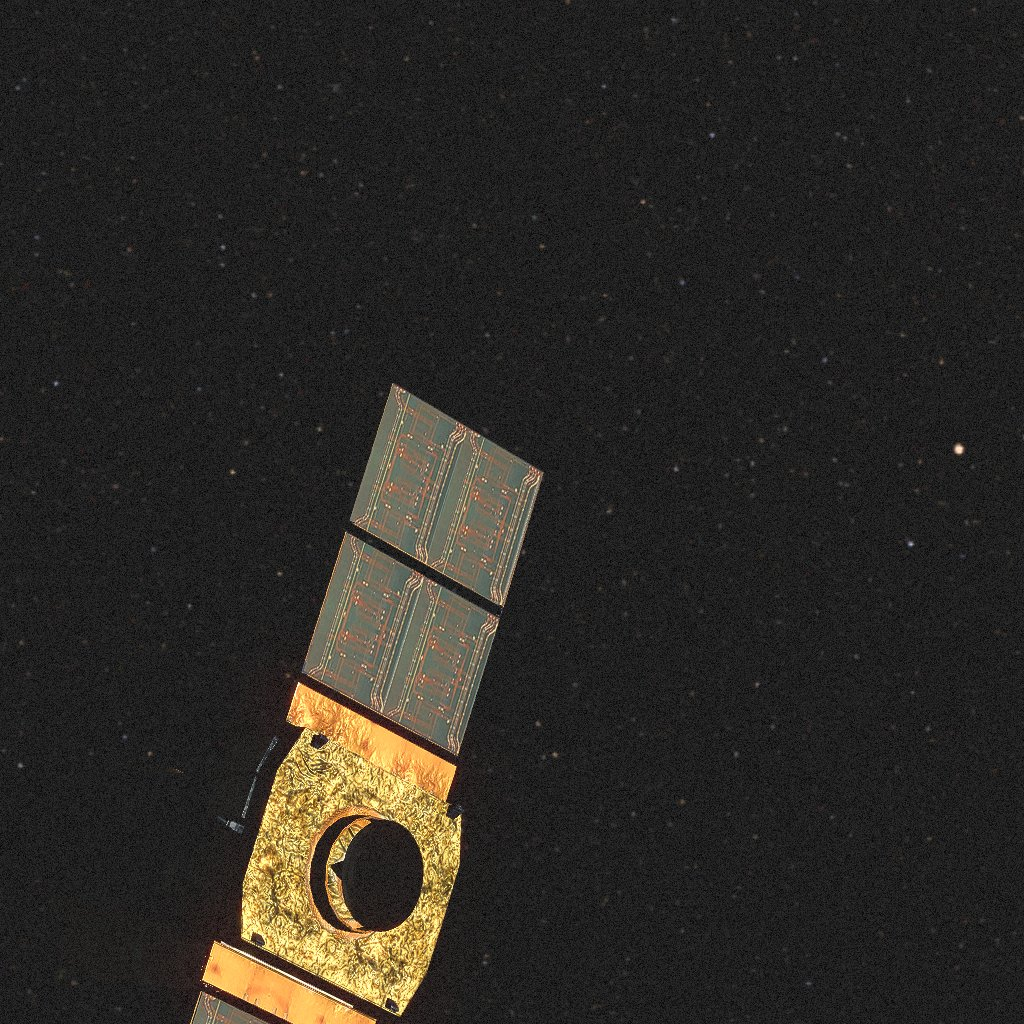soho: (43, 381, 544, 1024)
